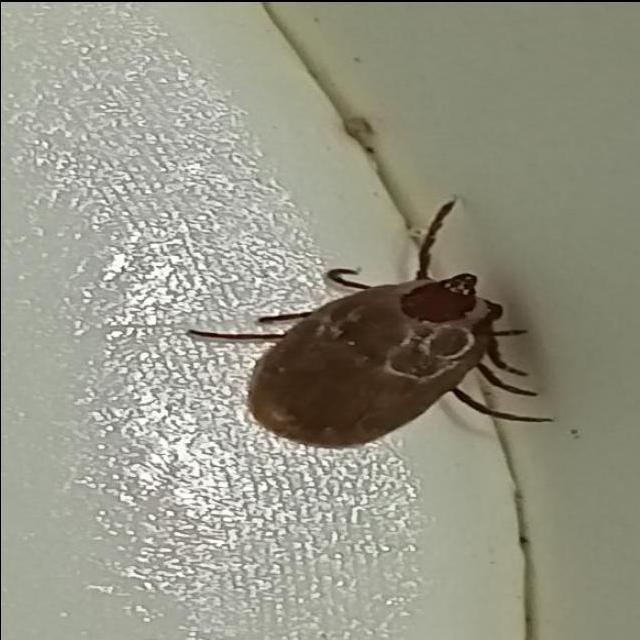Rhipicephalus Sanguineus-F-Fed: (184, 198, 559, 447)
